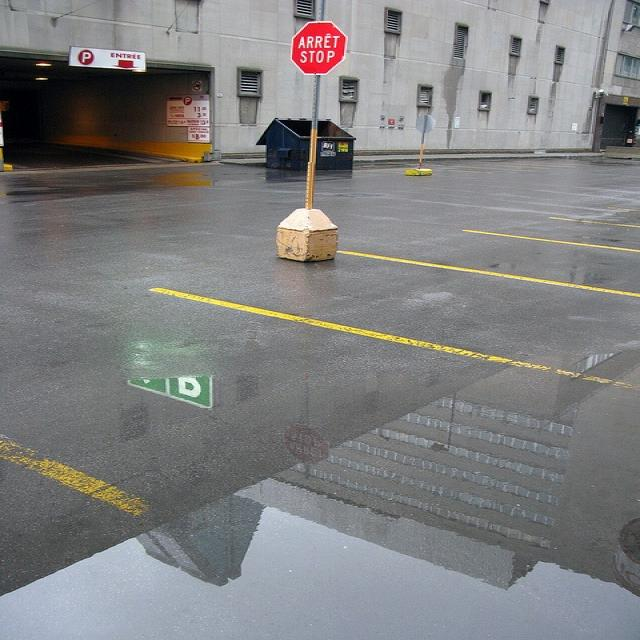pole: (302, 74, 322, 206)
